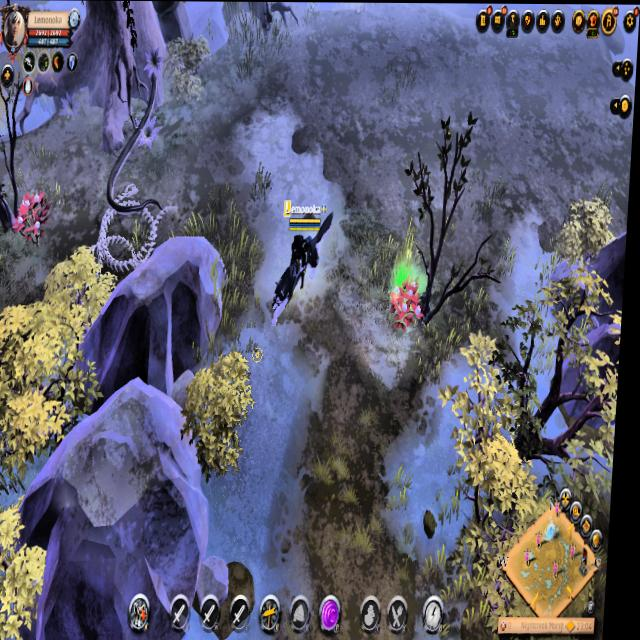fiber tier 5: (13, 190, 55, 245), (392, 271, 429, 333)
